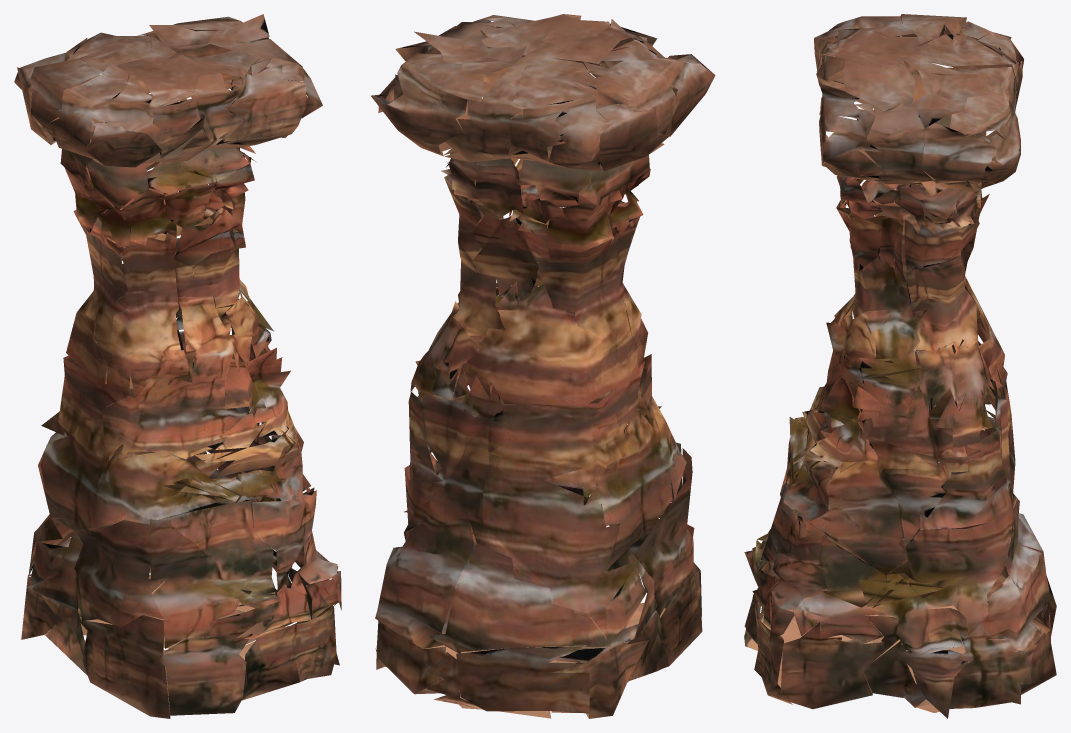
The model's file is spire_hoodoo.glb.
The picture shows the model from 3 angles, left to right: view 1: azimuth 30°, elevation 25°; view 2: azimuth 150°, elevation 25°; view 3: azimuth 270°, elevation 25°; orthographic projection. The views are drawn at different scales.
Visible parts, largest first — view 1: spire_hoodoo_p2; view 2: spire_hoodoo_p2; view 3: spire_hoodoo_p2.
Boxes of the visible parts, box(x1,y1,x2,y2) form: spire_hoodoo_p2: box(14, 14, 341, 718); spire_hoodoo_p2: box(371, 14, 715, 718); spire_hoodoo_p2: box(744, 14, 1056, 718).
Size of the model in its own units: 0.8651 by 1.97 by 0.9329.
Materials: 1 (1 with a texture image).
